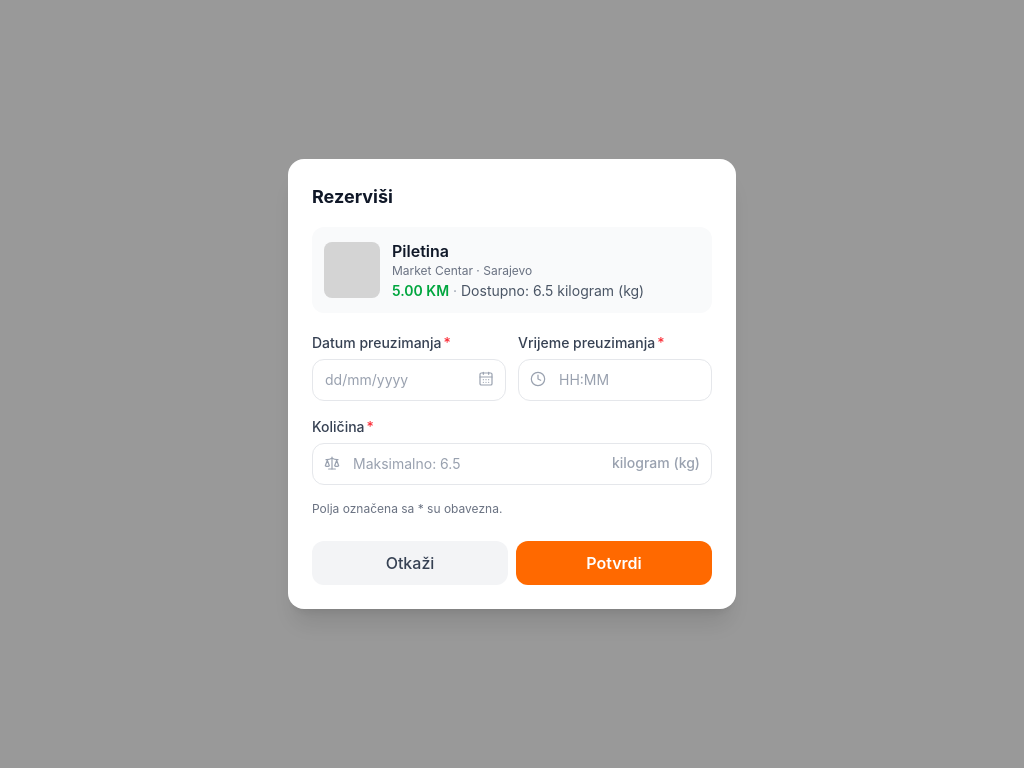
Scenario: ReserveProductModal › explains a missing subscription inside the dialog with a link to it
Step 1. Type "01/01/2030" into the field labelled "Datum preuzimanja" → (409, 380), box [312,359,506,401]
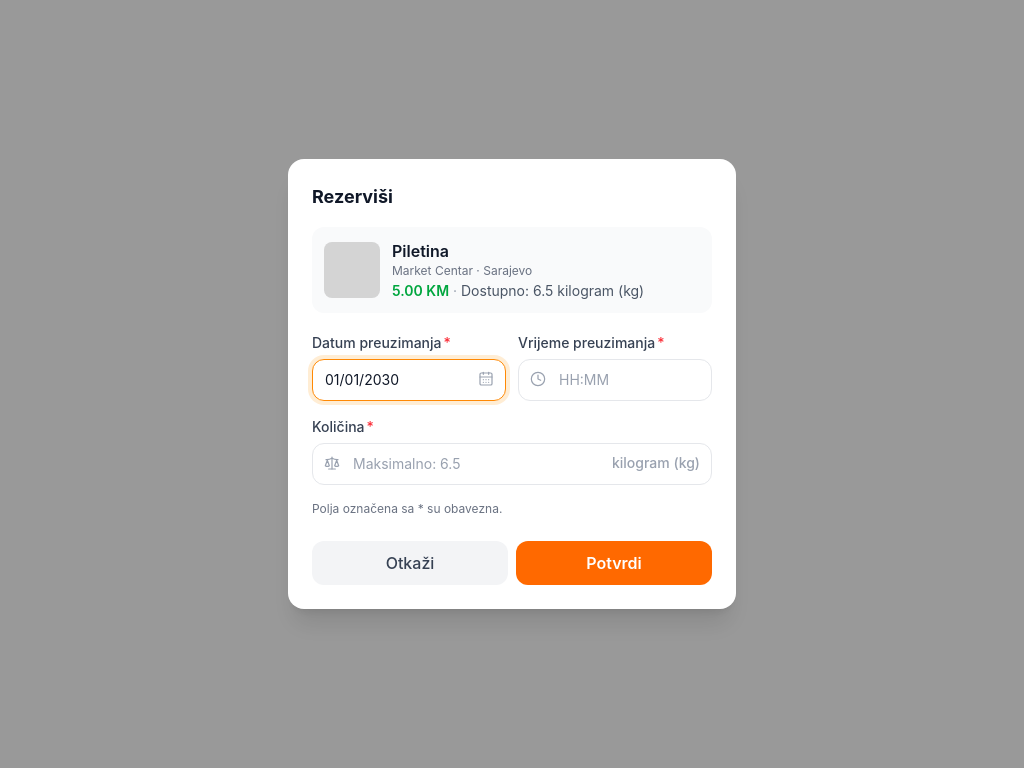
Step 2. Type "10:00" into the field labelled "Vrijeme preuzimanja" → (615, 380), box [518,359,712,401]
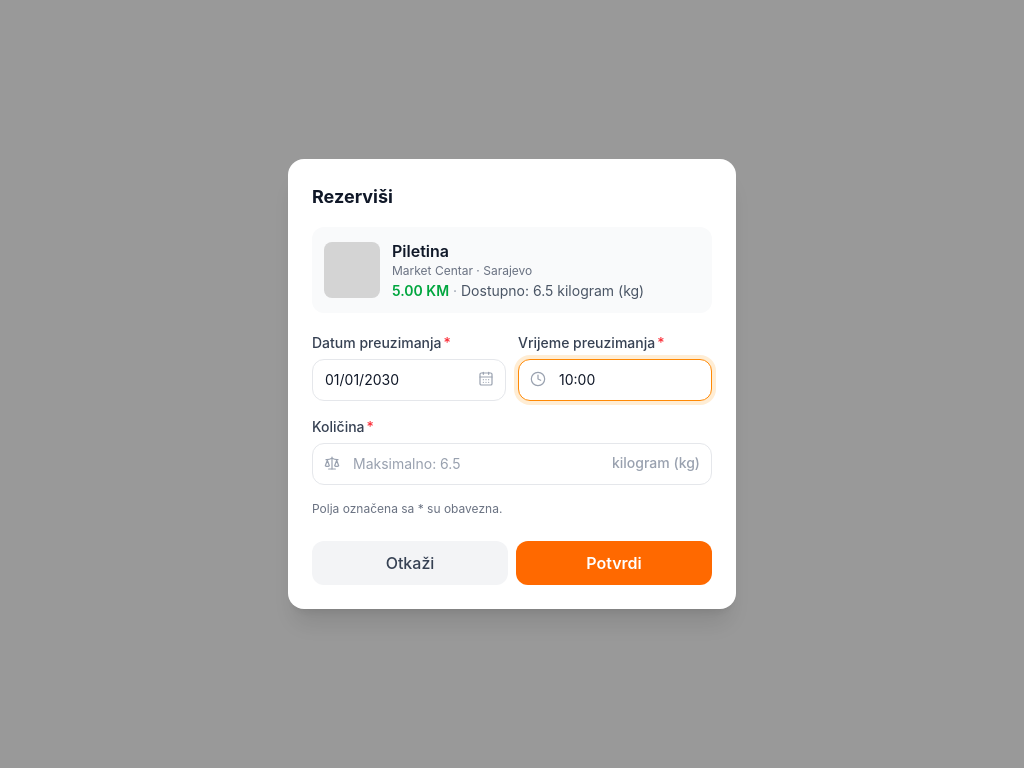
Step 3. Type "3" into the number field labelled "Količina" → (512, 464), box [312,443,712,485]
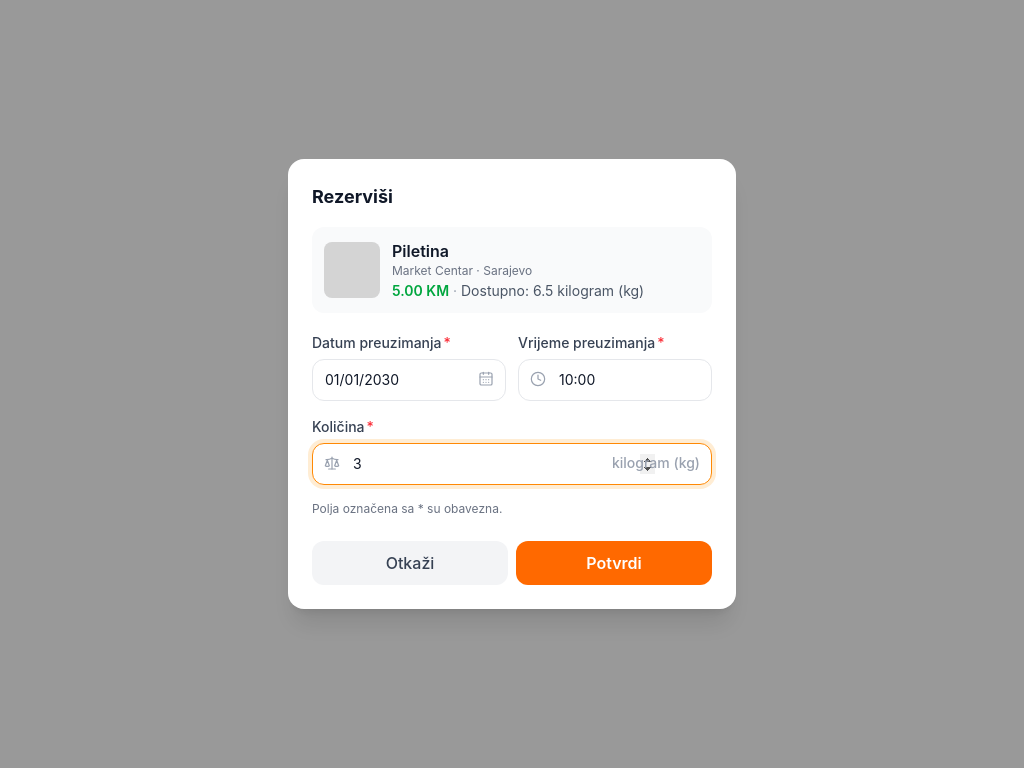
Step 4. Click the button "Potvrdi" → (614, 563), box [516,541,712,585]
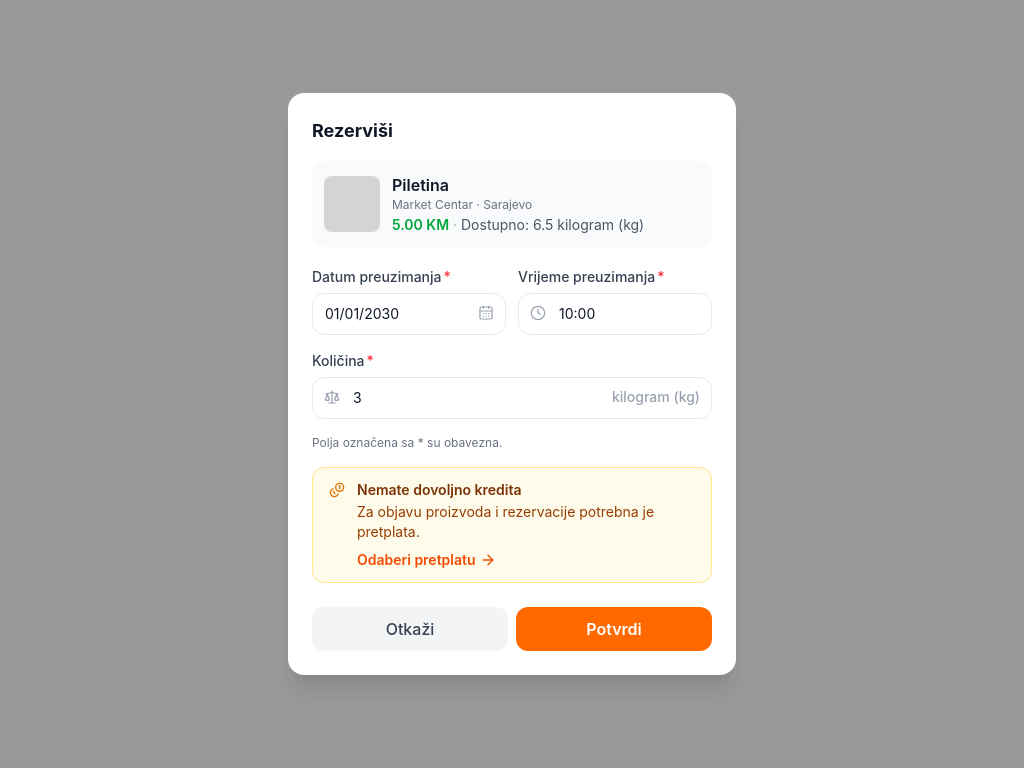
Result: the text "Za objavu proizvoda i rezervacije potrebna je pretplata." is shown at [357,502,695,542]
